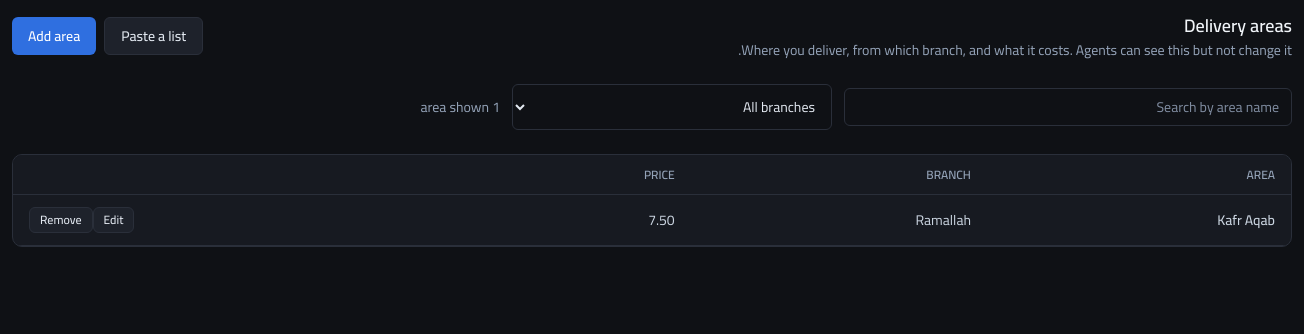
Test: delivery page › says why when the server refuses the removal
The width and height of the screenshot is (1304, 334).
Click the button "Remove": (61,220) [29, 207, 92, 233]
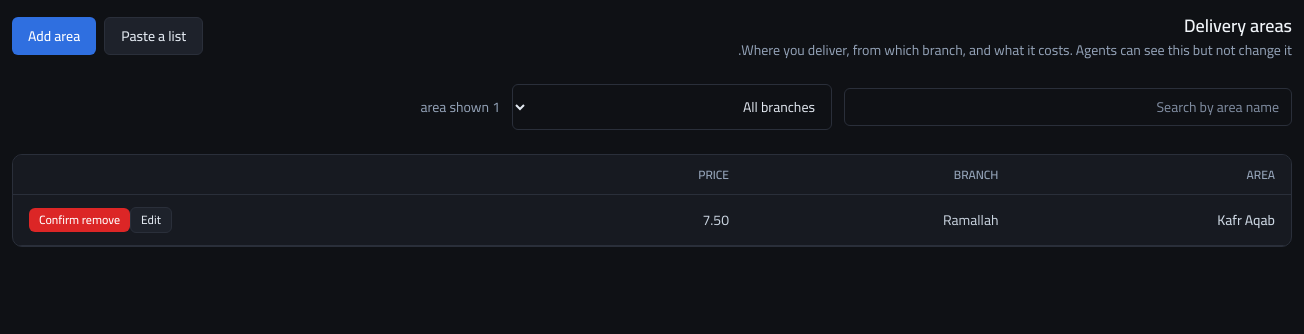
Click the button "Confirm remove": (80,220) [29, 208, 130, 232]
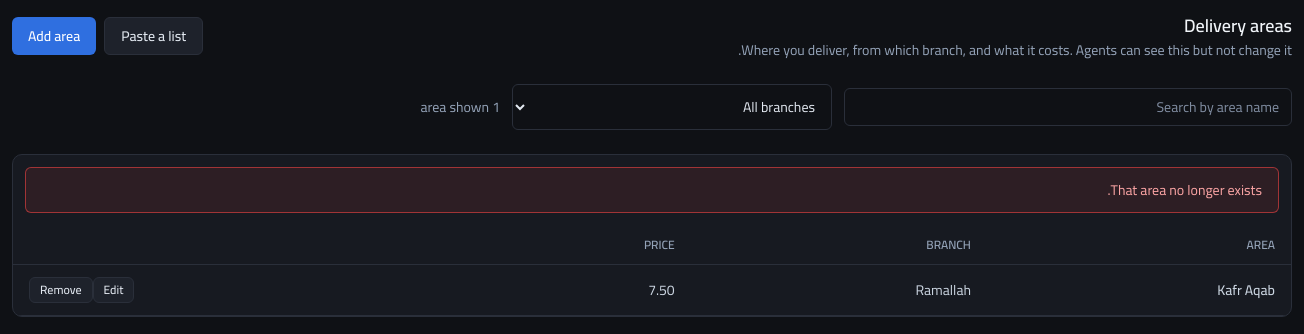
Now the message reads "That area no longer exists.", box [1108, 177, 1262, 203]
